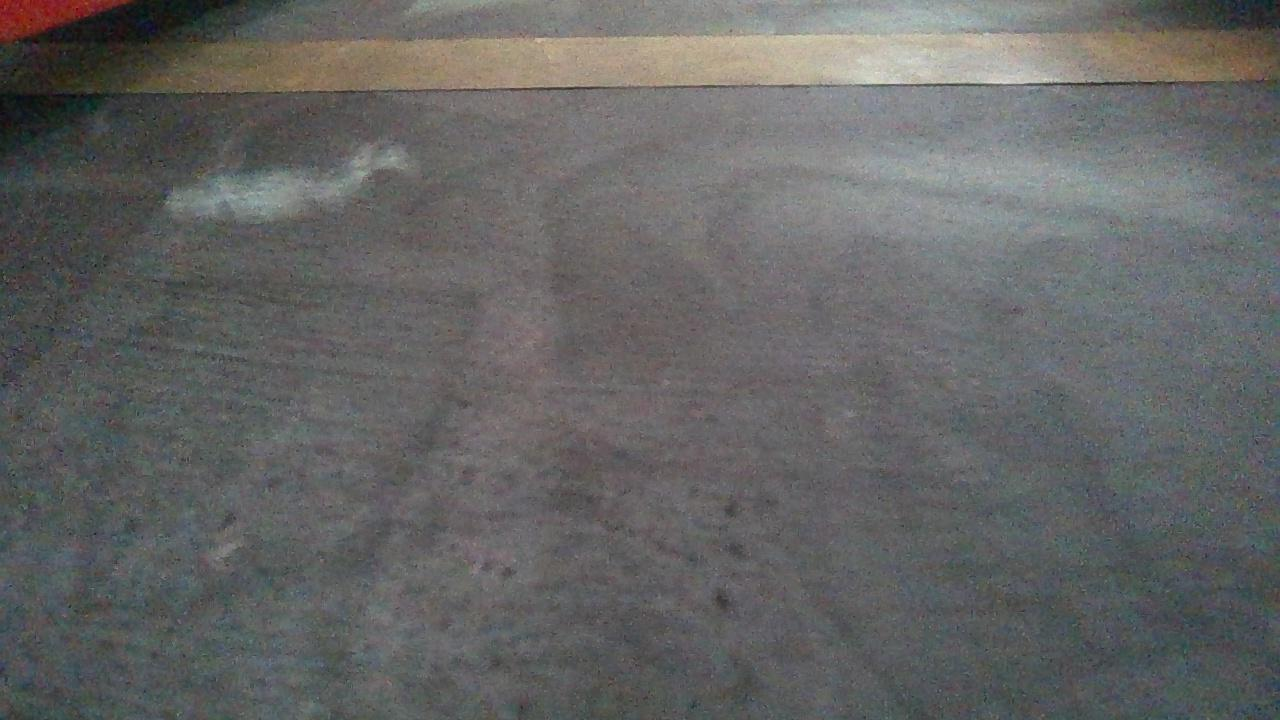yellow_line: (1, 38, 1273, 82)
